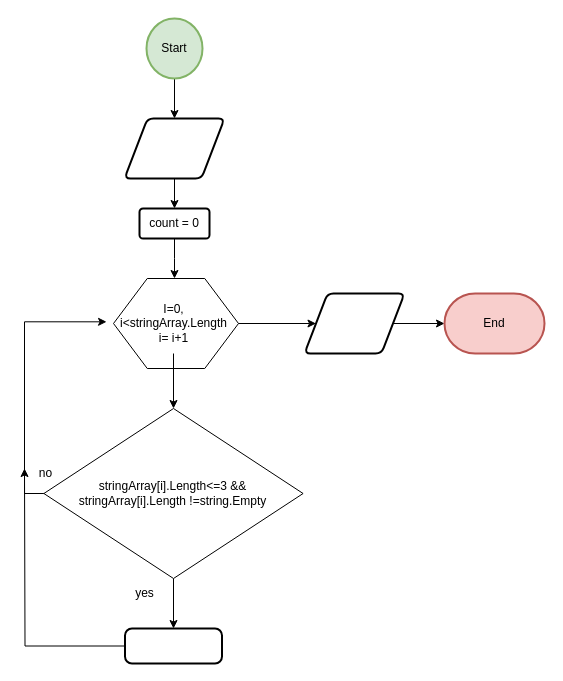
Image size: 563x681. Some labels were removed from this diagram. The shapes that lost their labels are listed below. From the top down, each one's centre as x and y in pixels, then its label:
(x=174, y=148): stringArray
(x=354, y=323): count
(x=173, y=645): count=count+1
